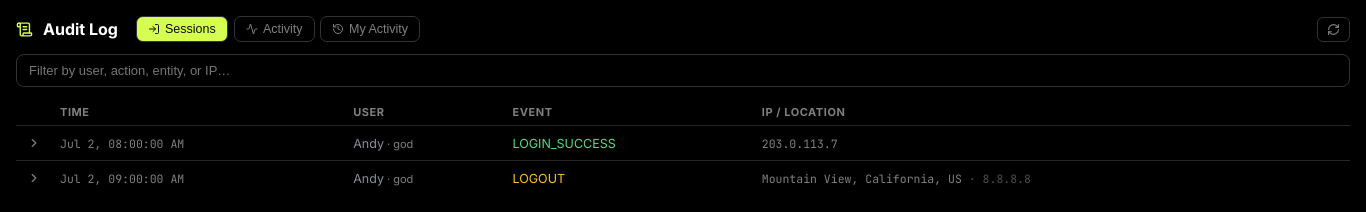
AuditLogWidget "My Activity" tab (plan 038) › renders local store entries for a signed-in user WITHOUT any fetch for that tab
Expected: the text "LOGIN_SUCCESS" is shown, [504,126,754,160]
Click the tab "My Activity" at [370, 29], box [320,16,420,42]
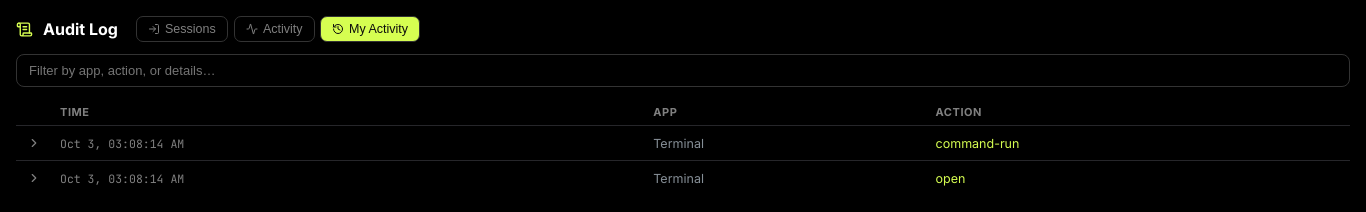
Expected: the text "command-run" is shown, [928,126,1350,160]
Expected: the text "Terminal" next to "command-run" is shown, [653,136,704,150]
